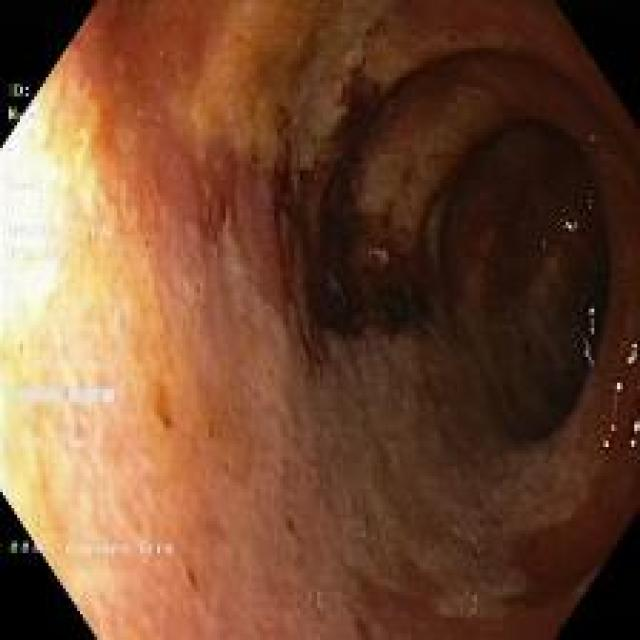ulcerative-colitis-grade-1: (304, 79, 640, 637), (0, 38, 491, 383)
